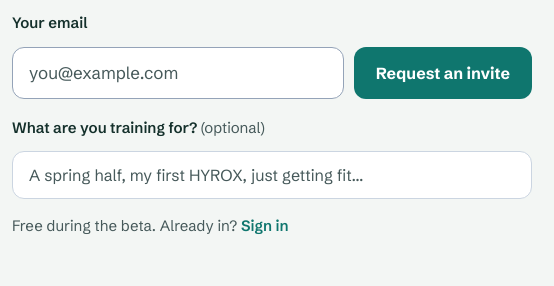
errors › server 400 without a message shows copy.md’s message and moves focus to it
In the field labelled "Your email": (178, 72) [12,46,344,98], type "new@example.com"
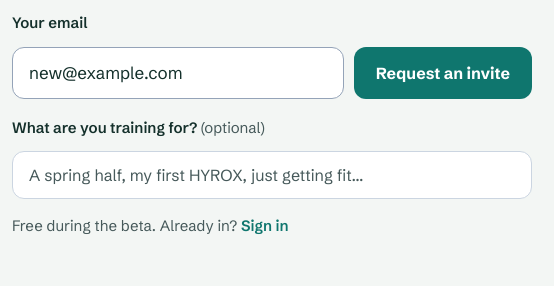
Click the button "Request an invite": click(443, 72) [354,46,532,98]
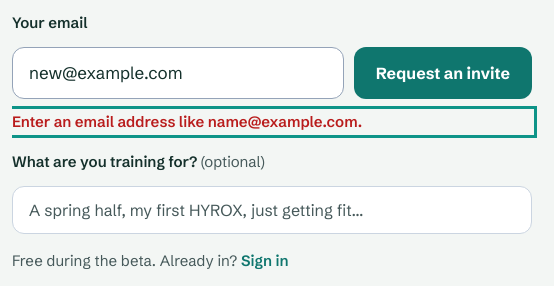
Expected: the message reads "Enter an email address like name@example.com.", [12,112,362,130]
